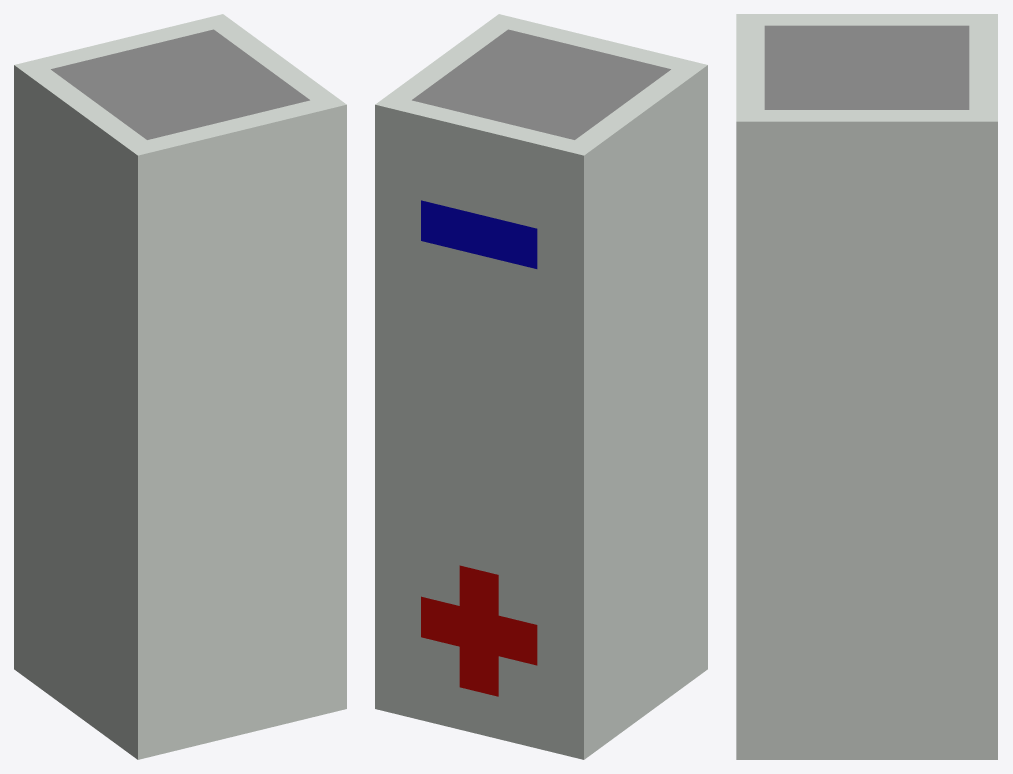
The model's file is battery_box.fbx.
The picture shows the model from 3 angles, left to right: view 1: azimuth 30°, elevation 25°; view 2: azimuth 150°, elevation 25°; view 3: azimuth 270°, elevation 25°; orthographic projection. The views are drawn at different scales.
Parts seen in each view (by area): view 1: box; view 2: box; view 3: box.
Part boxes in pixels (x1,y1,x2,y2): box: [14, 14, 346, 759]; box: [375, 14, 707, 759]; box: [736, 14, 997, 759].
Bounding box in the file's own units: 32.3 × 89.25 × 33.25.
